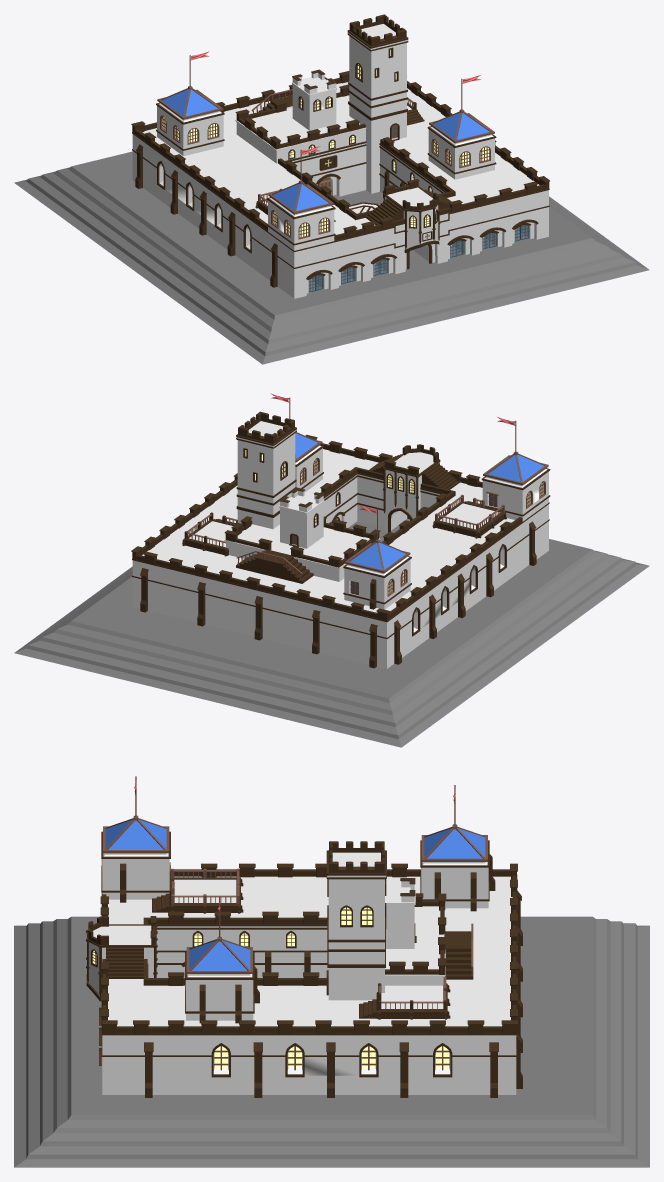
The model's file is crusader_headquarter.FBX.
3 renders of one model, top to bottom at view 1: azimuth 30°, elevation 25°; view 2: azimuth 150°, elevation 25°; view 3: azimuth 270°, elevation 25°, orthographic. The views are drawn at different scales.
Visible parts, largest first — view 1: crusader_headquarter.003, Cube; view 2: crusader_headquarter.003, Cube; view 3: crusader_headquarter.003, Cube.
Part boxes in pixels (bbox=[...]): crusader_headquarter.003: bbox=[131, 14, 549, 298]; Cube: bbox=[14, 151, 649, 364]; crusader_headquarter.003: bbox=[131, 393, 550, 668]; Cube: bbox=[14, 519, 649, 747]; crusader_headquarter.003: bbox=[86, 776, 522, 1097]; Cube: bbox=[14, 916, 649, 1167].
Size of the model in its own units: 7605 by 3365 by 8447.
